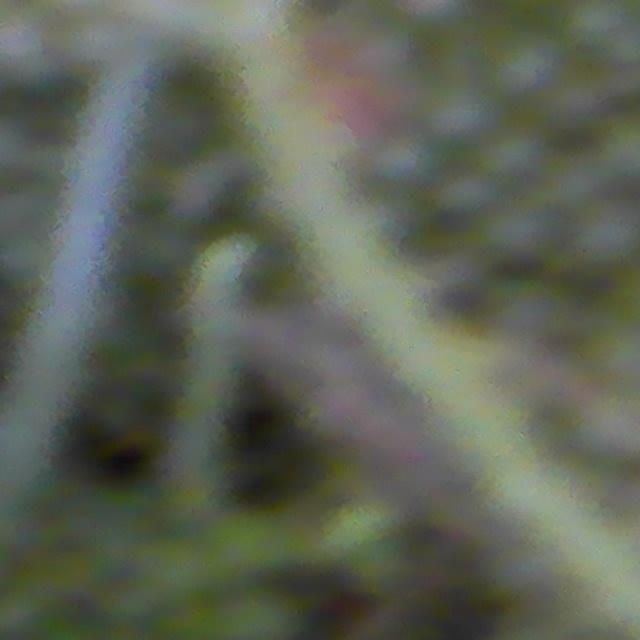SeaGrape: (488, 26, 562, 98), (425, 78, 496, 144), (574, 197, 640, 267), (0, 4, 51, 83), (482, 127, 545, 187)
